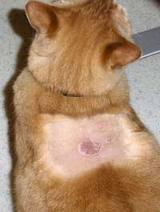ringworm: (74, 139, 104, 161)
